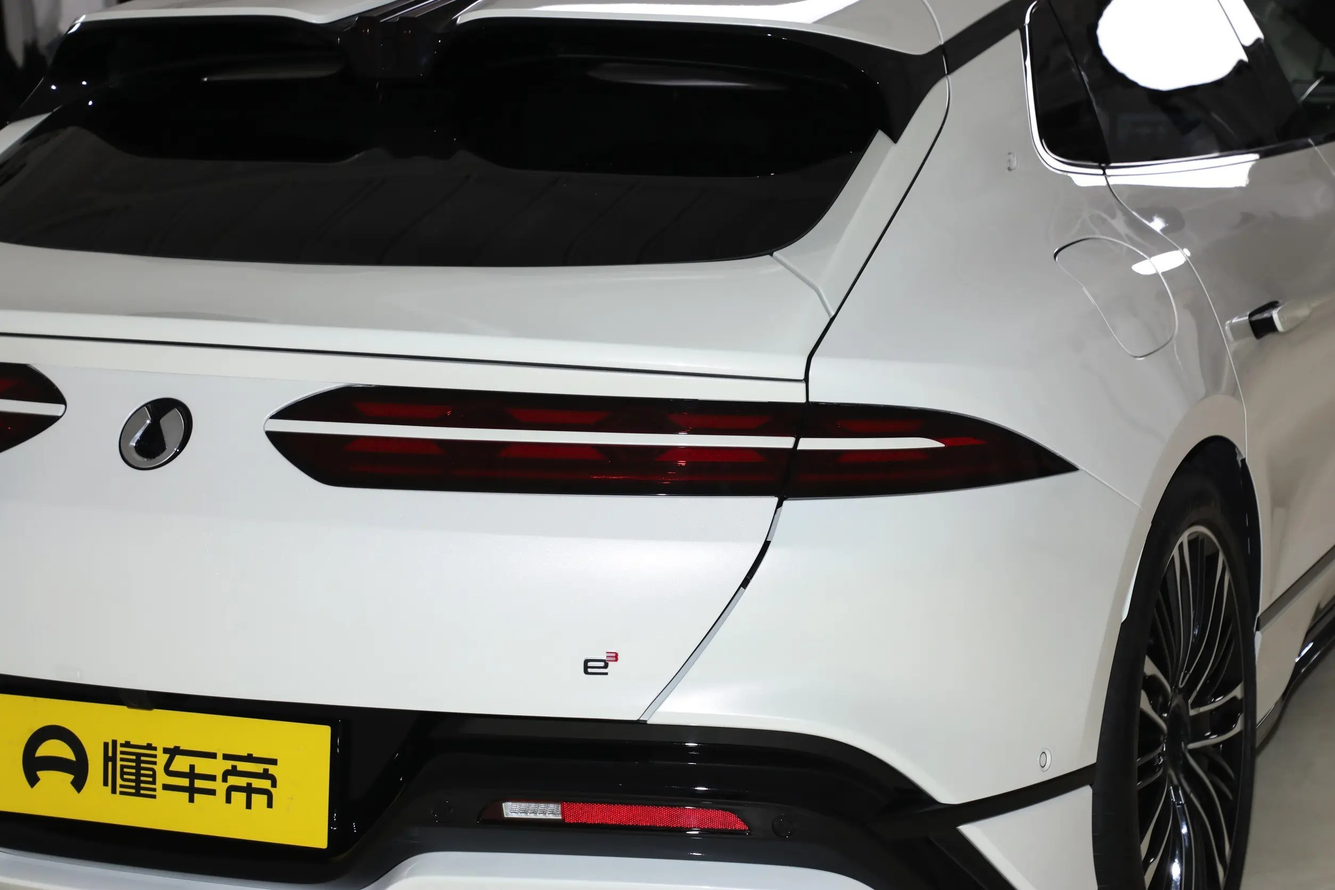DENZA: (120, 407, 183, 467)
